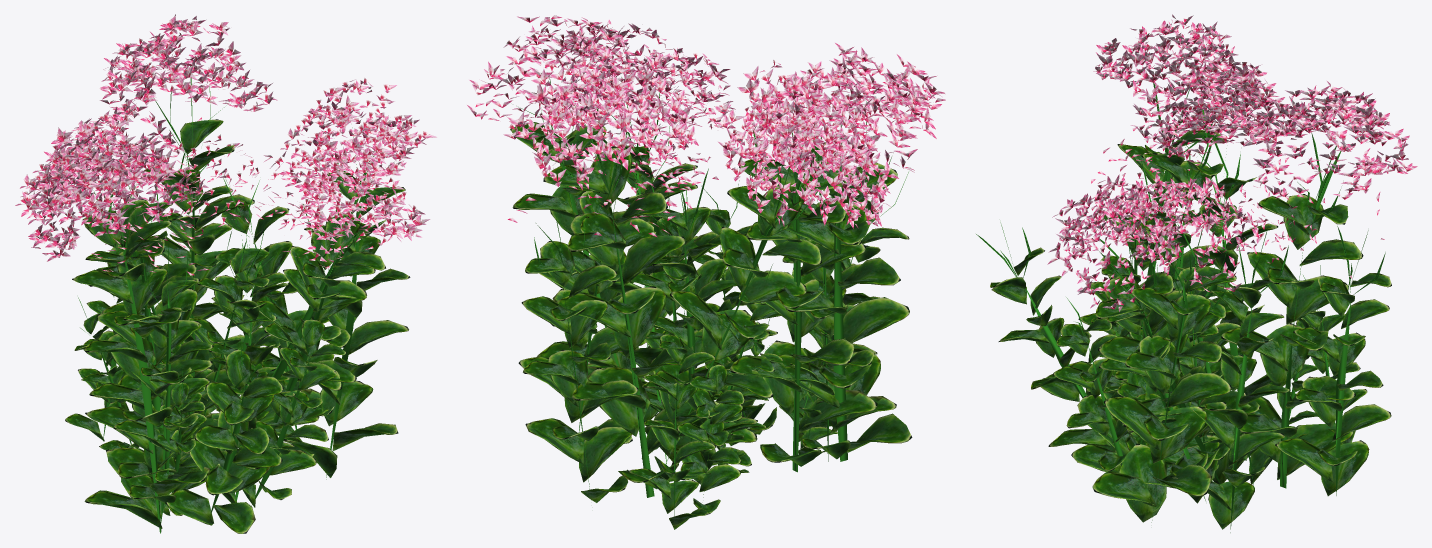
The model's file is flora-v4-min4.glb.
3 views of the same model, side by side, from view 1: azimuth 30°, elevation 25°; view 2: azimuth 150°, elevation 25°; view 3: azimuth 270°, elevation 25° (orthographic). The views are drawn at different scales.
Bounding box in the file's own units: 0.9851 × 0.9743 × 0.9358.
Materials: 3 (2 with a texture image).
